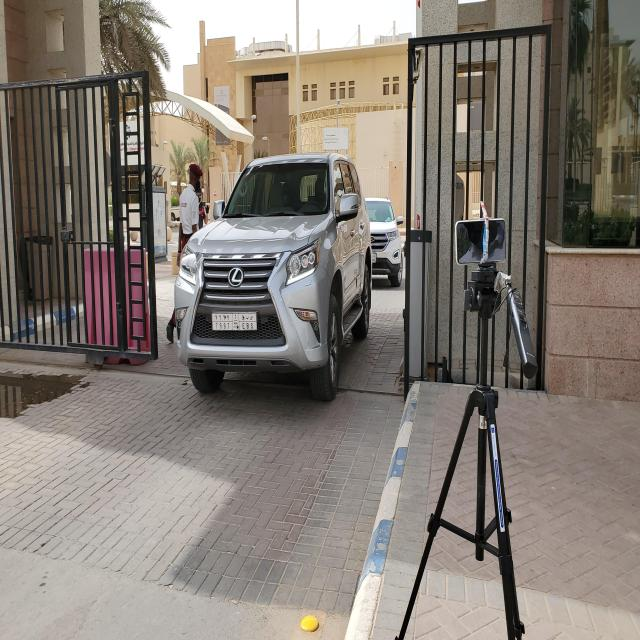license_plate: (210, 308, 260, 336)
